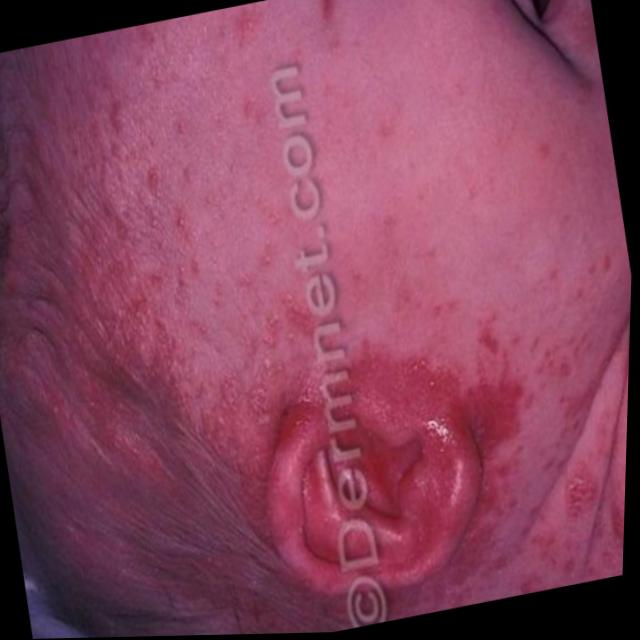Eczema: (0, 75, 225, 445), (300, 338, 565, 609)
